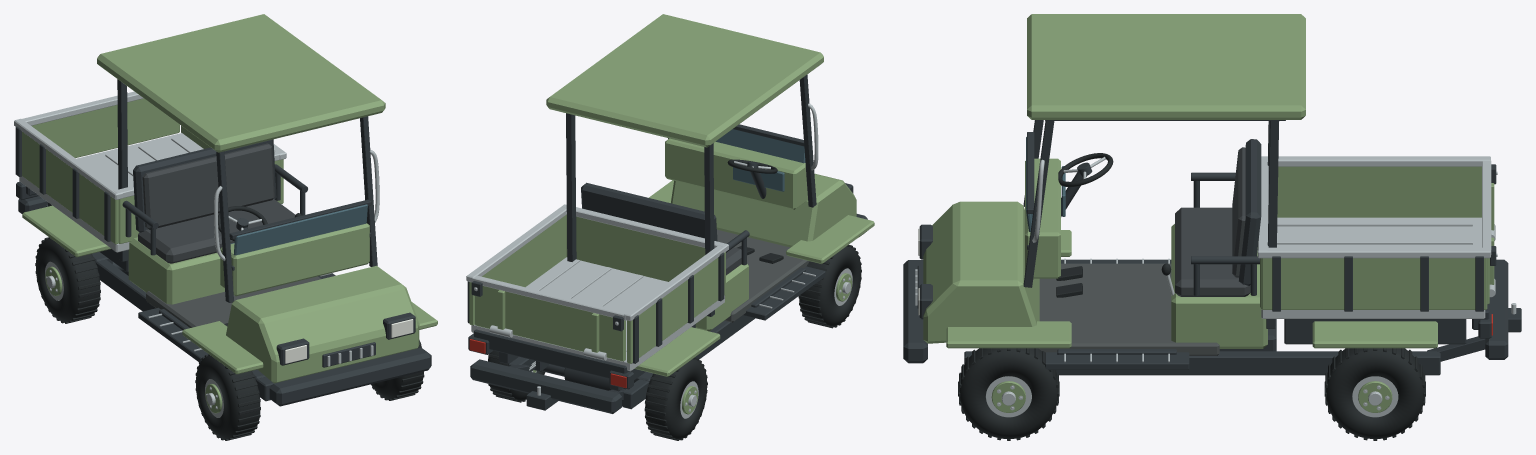
Rendered from city-utility-cargo-cart.glb.
3 views of the same model, side by side, from view 1: azimuth 30°, elevation 25°; view 2: azimuth 150°, elevation 25°; view 3: azimuth 270°, elevation 25° (orthographic). The views are drawn at different scales.
Visible parts, largest first — view 1: Assembly | Muted olive utility-cart enamel, Assembly | Graphite chassis steel, Assembly | Charcoal padded seat, Assembly | Charcoal tire and flexible skirt, Assembly | Satin zinc and machined hardware, Assembly | Opaque blue grey glazing appearance, Assembly | Dark anti-slip deck coating, Assembly | Inactive opaque ivory lamp lenses; view 2: Assembly | Muted olive utility-cart enamel, Assembly | Graphite chassis steel, Assembly | Satin zinc and machined hardware, Assembly | Charcoal tire and flexible skirt, Assembly | Dark anti-slip deck coating, Assembly | Opaque blue grey glazing appearance, Assembly | Inactive red rear lenses; view 3: Assembly | Muted olive utility-cart enamel, Assembly | Graphite chassis steel, Assembly | Satin zinc and machined hardware, Assembly | Charcoal tire and flexible skirt, Assembly | Dark anti-slip deck coating, Assembly | Charcoal padded seat.
Boxes of the visible parts, x1,y1,x2,y2 form: Assembly | Muted olive utility-cart enamel: [22, 14, 437, 413]; Assembly | Graphite chassis steel: [15, 79, 431, 406]; Assembly | Charcoal padded seat: [138, 143, 295, 263]; Assembly | Charcoal tire and flexible skirt: [35, 206, 424, 440]; Assembly | Satin zinc and machined hardware: [14, 91, 379, 417]; Assembly | Opaque blue grey glazing appearance: [230, 204, 367, 255]; Assembly | Dark anti-slip deck coating: [146, 276, 321, 327]; Assembly | Inactive opaque ivory lamp lenses: [285, 319, 413, 363]; Assembly | Muted olive utility-cart enamel: [469, 14, 874, 414]; Assembly | Graphite chassis steel: [467, 74, 867, 413]; Assembly | Satin zinc and machined hardware: [466, 103, 852, 418]; Assembly | Charcoal tire and flexible skirt: [488, 159, 861, 440]; Assembly | Dark anti-slip deck coating: [717, 229, 809, 322]; Assembly | Opaque blue grey glazing appearance: [716, 129, 805, 191]; Assembly | Inactive red rear lenses: [469, 339, 626, 387]; Assembly | Muted olive utility-cart enamel: [923, 14, 1494, 412]; Assembly | Graphite chassis steel: [903, 120, 1521, 375]; Assembly | Satin zinc and machined hardware: [915, 156, 1516, 417]; Assembly | Charcoal tire and flexible skirt: [958, 153, 1425, 440]; Assembly | Dark anti-slip deck coating: [1038, 263, 1219, 355]; Assembly | Charcoal padded seat: [1175, 147, 1250, 296].
Bounding box in the file's own units: 1.41 × 1.92 × 3.25.
